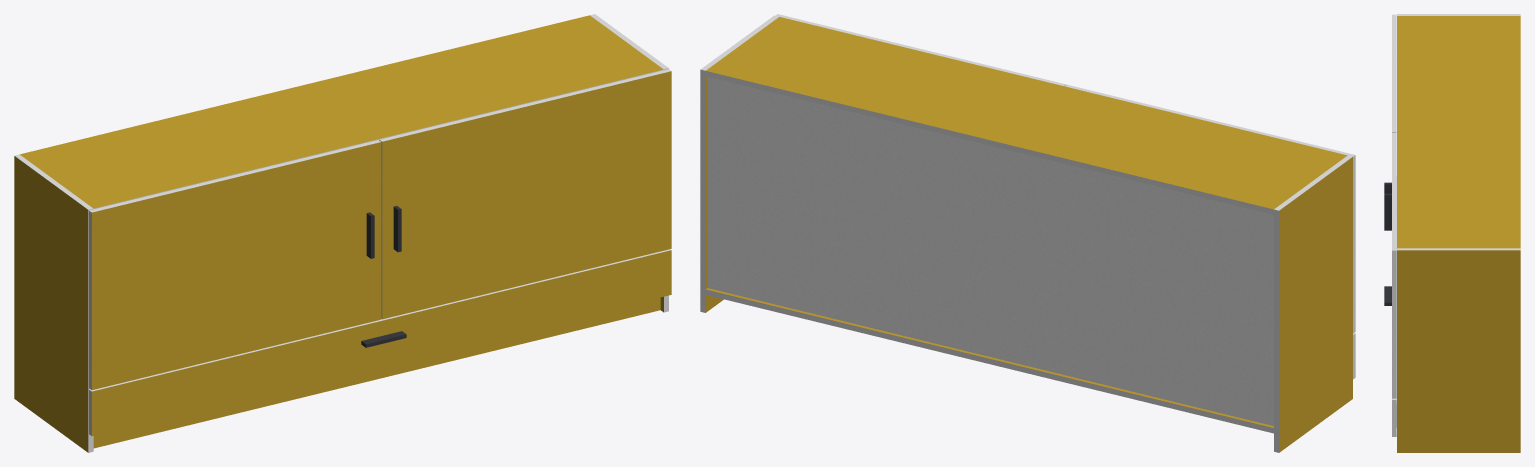
The model's file is FET-SDB-long.glb.
3 views of the same model, side by side, from view 1: azimuth 30°, elevation 25°; view 2: azimuth 150°, elevation 25°; view 3: azimuth 270°, elevation 25° (orthographic). The views are drawn at different scales.
Visible parts, largest first — view 1: door-r:pbr, door-l:pbr, top:pbr, d1-front:pbr, side-l:pbr, plinth:pbr, pull, d1-front:sheet:eyJtIjoibWRmIiwic2lkZSI6ImVkZ2UtbG9uZyIsInNlZ, door-l:sheet:eyJtIjoibWRmIiwic2lkZSI6ImVkZ2UtbG9uZyIsInNlZWQ, door-r:sheet:eyJtIjoibWRmIiwic2lkZSI6ImVkZ2UtbG9uZyIsInNlZWQ, top:sheet:eyJtIjoibWRmIiwic2lkZSI6ImVkZ2UtbG9uZyIsInNlZWQiOj; view 2: back:sheet:eyJtIjoibWRmIiwic2lkZSI6ImZhY2UiLCJzZWVkIjoyLCJ0a, top:pbr, side-l:pbr, bottom:sheet:eyJtIjoibWRmIiwic2lkZSI6ImVkZ2UtbG9uZyIsInNlZWQ, top:sheet:eyJtIjoibWRmIiwic2lkZSI6ImVkZ2UtbG9uZyIsInNlZWQiOj, side-r:sheet:eyJtIjoibWRmIiwic2lkZSI6ImVkZ2UtbG9uZyIsInNlZWQ, bottom:pbr, side-l:sheet:eyJtIjoibWRmIiwic2lkZSI6ImVkZ2UtbG9uZyIsInNlZWQ, door-l:sheet:eyJtIjoibWRmIiwic2lkZSI6ImVkZ2UtbG9uZyIsInNlZWQ, door-r:sheet:eyJtIjoibWRmIiwic2lkZSI6ImVkZ2UtbG9uZyIsInNlZWQ, side-r:pbr; view 3: top:pbr, side-r:pbr, door-r:sheet:eyJtIjoibWRmIiwic2lkZSI6ImVkZ2UtZW5kIiwic2VlZCI, door-l:sheet:eyJtIjoibWRmIiwic2lkZSI6ImVkZ2UtbG9uZyIsInNlZWQ, door-r:sheet:eyJtIjoibWRmIiwic2lkZSI6ImVkZ2UtbG9uZyIsInNlZWQ, pull, side-r:sheet:eyJtIjoibWRmIiwic2lkZSI6ImVkZ2UtZW5kIiwic2VlZCI, side-l:sheet:eyJtIjoibWRmIiwic2lkZSI6ImVkZ2UtZW5kIiwic2VlZCI, d1-box-front:sheet:eyJtIjoibWRmIiwic2lkZSI6ImVkZ2UtbG9uZyIsI, d1-front:sheet:eyJtIjoibWRmIiwic2lkZSI6ImVkZ2UtZW5kIiwic2VlZ.
Part boxes in pixels (<box>): door-r:pbr: <box>382,71,671,319</box>; door-l:pbr: <box>92,142,381,389</box>; top:pbr: <box>20,15,663,208</box>; d1-front:pbr: <box>92,250,671,435</box>; side-l:pbr: <box>14,156,88,452</box>; plinth:pbr: <box>93,297,660,448</box>; pull: <box>361,206,406,347</box>; d1-front:sheet:eyJtIjoibWRmIiwic2lkZSI6ImVkZ2UtbG9uZyIsInNlZ: <box>89,249,671,391</box>; door-l:sheet:eyJtIjoibWRmIiwic2lkZSI6ImVkZ2UtbG9uZyIsInNlZWQ: <box>89,140,380,212</box>; door-r:sheet:eyJtIjoibWRmIiwic2lkZSI6ImVkZ2UtbG9uZyIsInNlZWQ: <box>380,69,671,141</box>; top:sheet:eyJtIjoibWRmIiwic2lkZSI6ImVkZ2UtbG9uZyIsInNlZWQiOj: <box>94,69,663,209</box>; back:sheet:eyJtIjoibWRmIiwic2lkZSI6ImZhY2UiLCJzZWVkIjoyLCJ0a: <box>707,77,1273,425</box>; top:pbr: <box>706,17,1347,209</box>; side-l:pbr: <box>1279,157,1352,452</box>; bottom:sheet:eyJtIjoibWRmIiwic2lkZSI6ImVkZ2UtbG9uZyIsInNlZWQ: <box>705,289,1273,433</box>; top:sheet:eyJtIjoibWRmIiwic2lkZSI6ImVkZ2UtbG9uZyIsInNlZWQiOj: <box>705,71,1273,214</box>; side-r:sheet:eyJtIjoibWRmIiwic2lkZSI6ImVkZ2UtbG9uZyIsInNlZWQ: <box>700,69,705,312</box>; bottom:pbr: <box>706,288,1273,427</box>; side-l:sheet:eyJtIjoibWRmIiwic2lkZSI6ImVkZ2UtbG9uZyIsInNlZWQ: <box>1274,209,1278,452</box>; door-l:sheet:eyJtIjoibWRmIiwic2lkZSI6ImVkZ2UtbG9uZyIsInNlZWQ: <box>1065,84,1354,156</box>; door-r:sheet:eyJtIjoibWRmIiwic2lkZSI6ImVkZ2UtbG9uZyIsInNlZWQ: <box>775,14,1065,85</box>; side-r:pbr: <box>705,76,723,312</box>; top:pbr: <box>1397,16,1520,248</box>; side-r:pbr: <box>1397,250,1520,452</box>; door-r:sheet:eyJtIjoibWRmIiwic2lkZSI6ImVkZ2UtZW5kIiwic2VlZCI: <box>1392,250,1396,398</box>; door-l:sheet:eyJtIjoibWRmIiwic2lkZSI6ImVkZ2UtbG9uZyIsInNlZWQ: <box>1392,14,1396,132</box>; door-r:sheet:eyJtIjoibWRmIiwic2lkZSI6ImVkZ2UtbG9uZyIsInNlZWQ: <box>1392,133,1396,250</box>; pull: <box>1384,182,1391,305</box>; side-r:sheet:eyJtIjoibWRmIiwic2lkZSI6ImVkZ2UtZW5kIiwic2VlZCI: <box>1397,248,1520,250</box>; side-l:sheet:eyJtIjoibWRmIiwic2lkZSI6ImVkZ2UtZW5kIiwic2VlZCI: <box>1397,14,1520,15</box>; d1-box-front:sheet:eyJtIjoibWRmIiwic2lkZSI6ImVkZ2UtbG9uZyIsI: <box>1396,178,1396,402</box>; d1-front:sheet:eyJtIjoibWRmIiwic2lkZSI6ImVkZ2UtZW5kIiwic2VlZ: <box>1392,400,1396,436</box>.
Size of the model in its own units: 2 by 0.8 by 0.4869.
55 materials, 42 textured.
